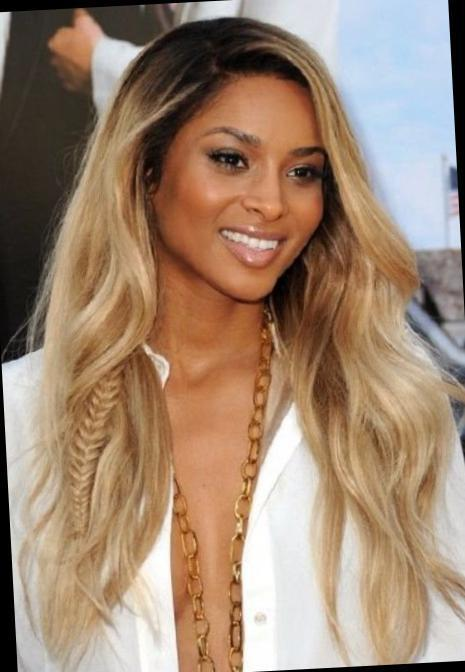Sober: (176, 77, 317, 285)
